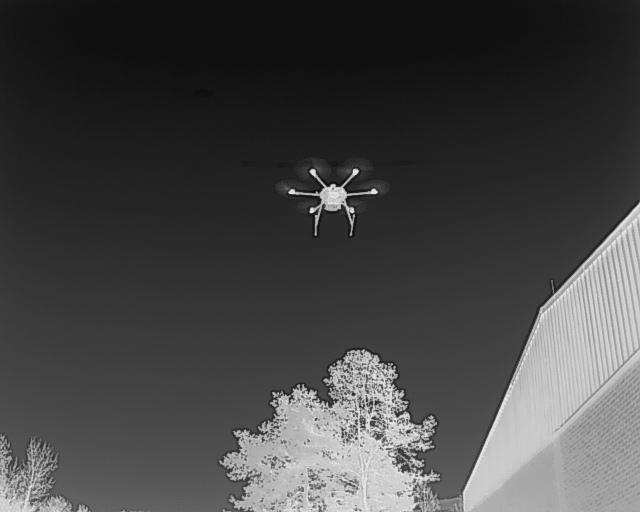drone: (272, 150, 382, 246)
